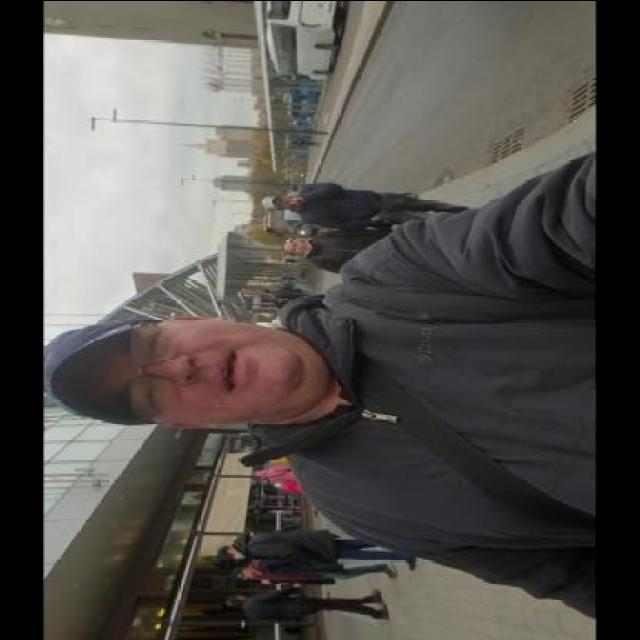bus: (264, 203, 316, 239)
